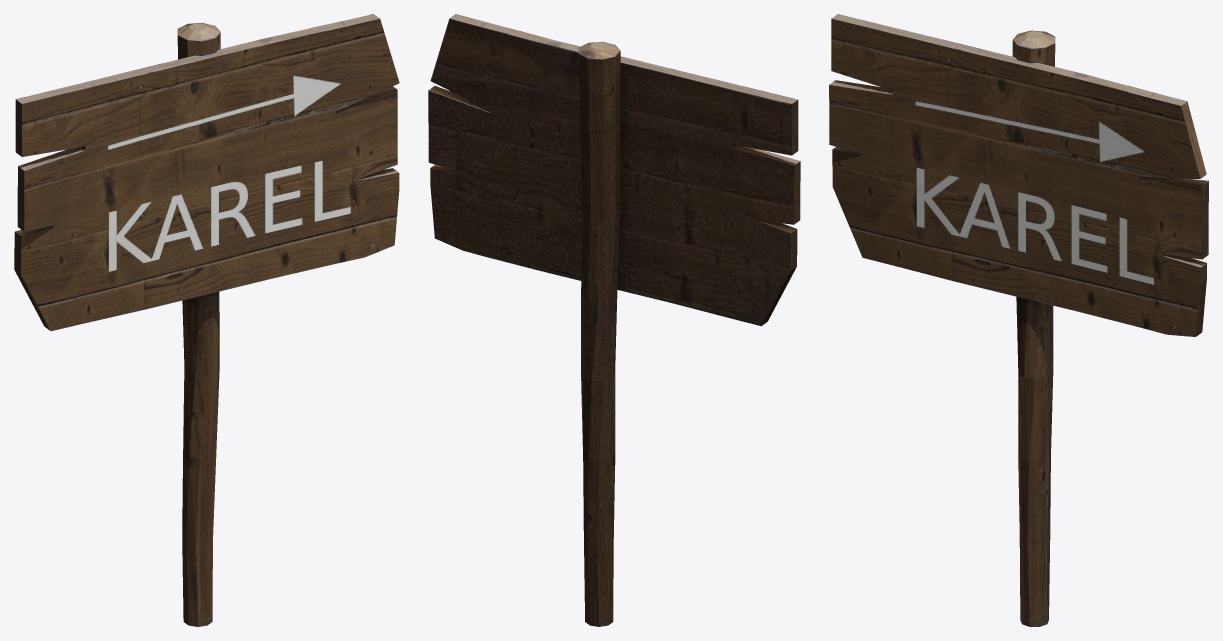
File: arrow-karel.glb
The picture shows the model from 3 angles, left to right: view 1: azimuth 30°, elevation 25°; view 2: azimuth 150°, elevation 25°; view 3: azimuth 330°, elevation 25°; orthographic projection. The views are drawn at different scales.
Parts seen in each view (by area): view 1: Signpost_Tall_Baked_dark_0; view 2: Signpost_Tall_Baked_dark_0; view 3: Signpost_Tall_Baked_dark_0.
Part boxes in pixels (left/top/right/bottom): Signpost_Tall_Baked_dark_0: left=14, top=14, right=399, bottom=626; Signpost_Tall_Baked_dark_0: left=428, top=14, right=800, bottom=626; Signpost_Tall_Baked_dark_0: left=829, top=14, right=1208, bottom=626.
Bounding box in the file's own units: 2 × 3.02 × 0.2602.
Materials: 1 (1 with a texture image).
